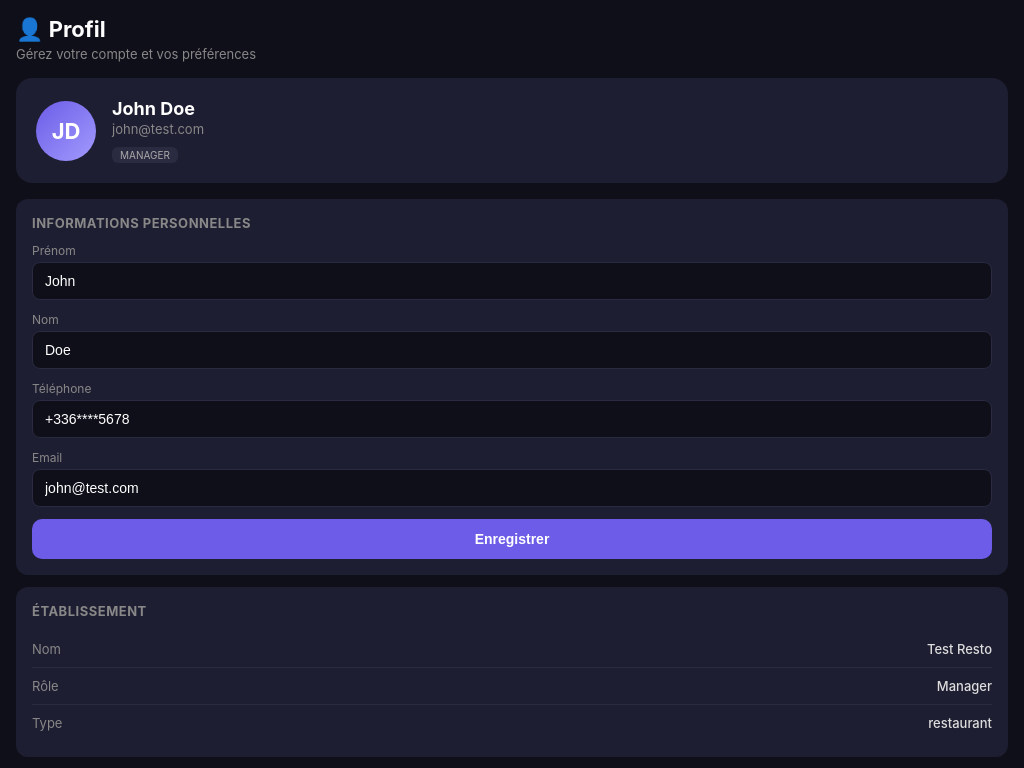
Test: Profile.vue › saveProfile › affiche 'Aucune modification' si les champs n ont pas changé
The width and height of the screenshot is (1024, 768).
What coordinates should you click on to do the following:
click the button with class "btn-save"
I would click on:
 (512, 539)
Its box is [32, 519, 992, 559].
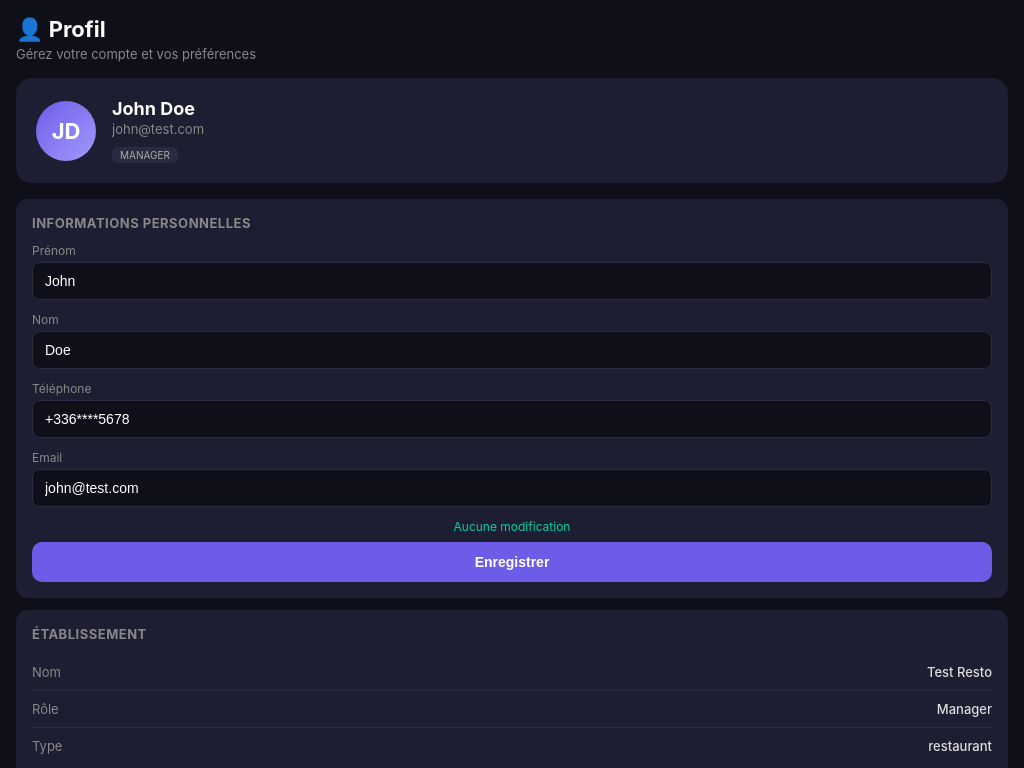
Check: the text "Aucune modification" is shown, box [454, 519, 570, 534]
